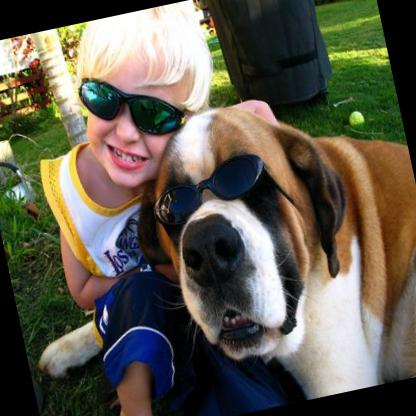Saint_Bernard: (114, 68, 416, 416)
